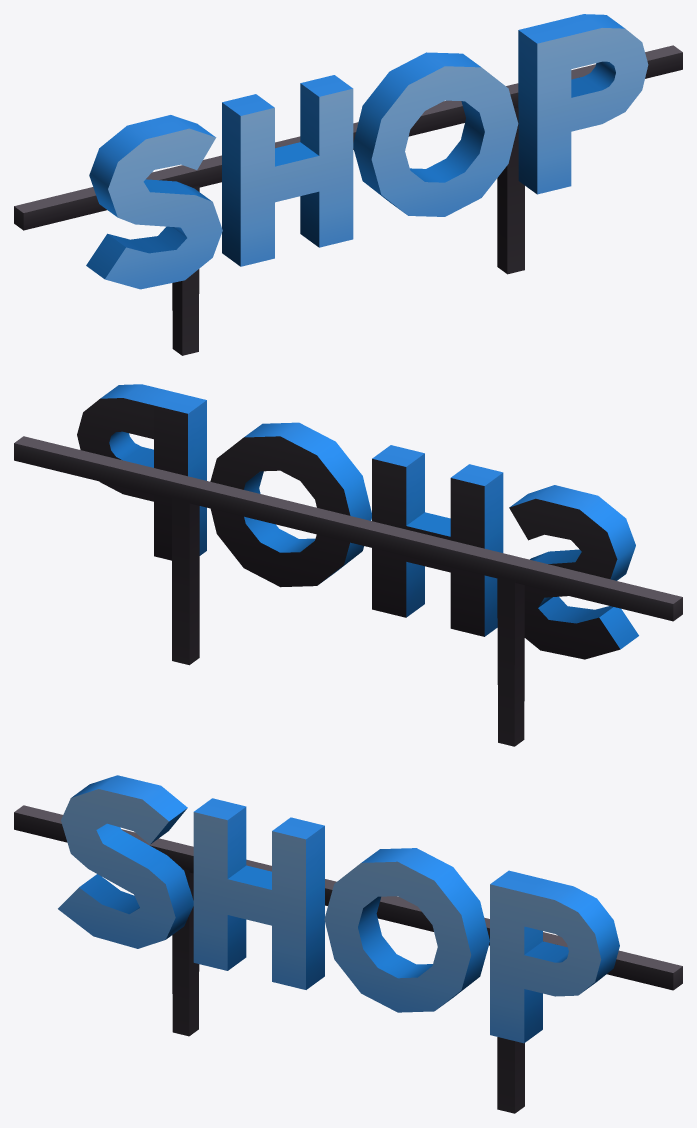
Rendered from Title_3B.fbx.
The picture shows the model from 3 angles, top to bottom: view 1: azimuth 30°, elevation 25°; view 2: azimuth 150°, elevation 25°; view 3: azimuth 330°, elevation 25°; orthographic projection.
Parts seen in each view (by area): view 1: Title_3B, Title_Addon_3B; view 2: Title_3B, Title_Addon_3B; view 3: Title_3B, Title_Addon_3B.
Part boxes in pixels (x1=…): Title_3B: x1=86, y1=14, x2=648, y2=289; Title_Addon_3B: x1=14, y1=45, x2=682, y2=355; Title_3B: x1=77, y1=384, x2=638, y2=659; Title_Addon_3B: x1=14, y1=436, x2=682, y2=746; Title_3B: x1=58, y1=775, x2=619, y2=1043; Title_Addon_3B: x1=14, y1=805, x2=682, y2=1113.
Bounding box in the file's own units: 405 × 143 × 30.53.
